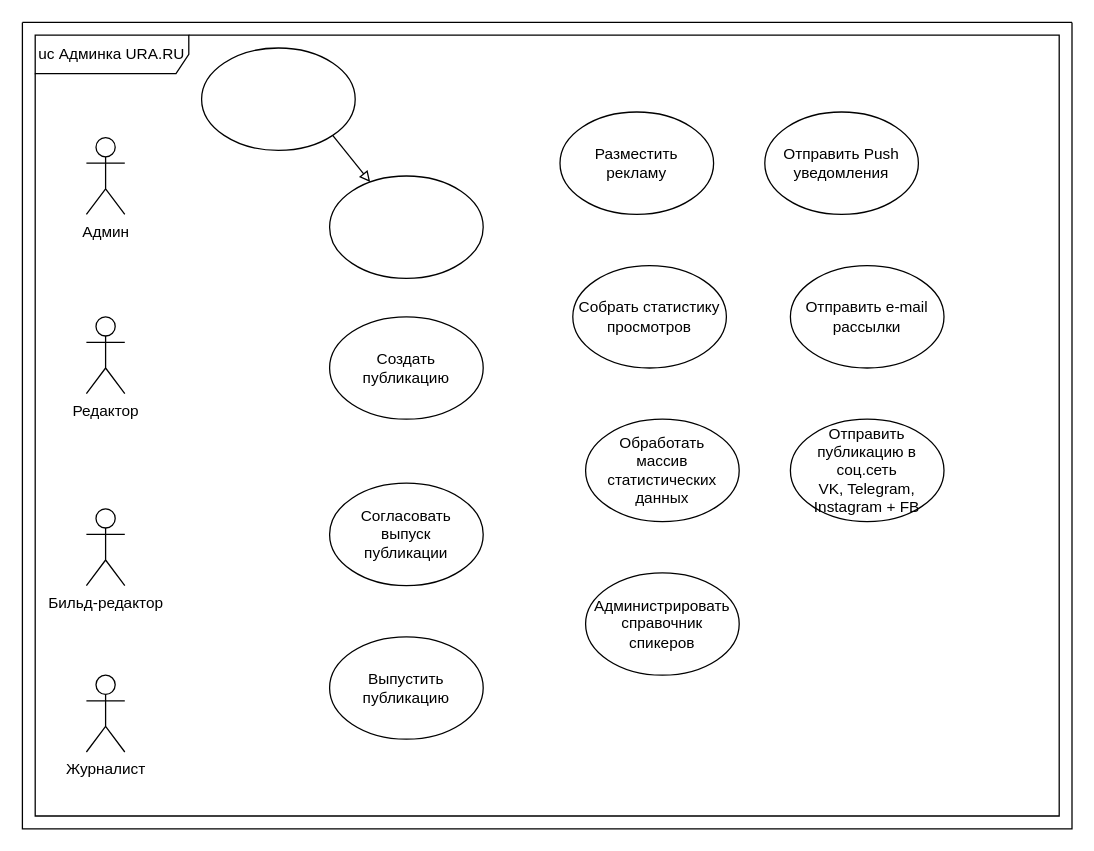
This 1094x851 diagram has some shape labels left out. Here are the shapes that lost their labels. From the top down, the box of each, then its label:
(200, 47, 355, 150): Проверить соблюдение зак-ва в обл. деят. СМИ
(328, 175, 483, 278): Модерировать комментарии
